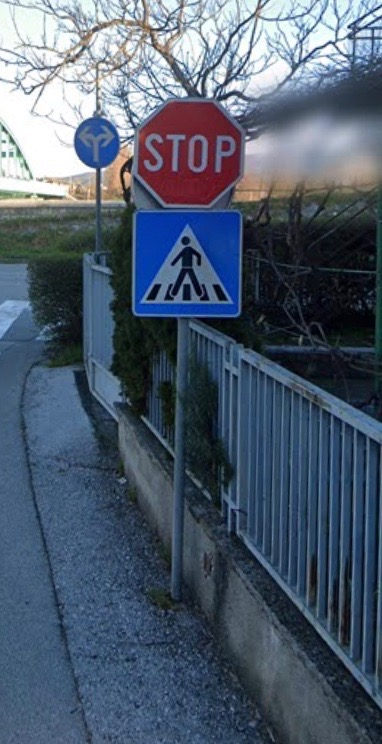Obavezno zaustavljanje: (133, 97, 245, 208)
Pješački prijelaz: (132, 211, 242, 316)
